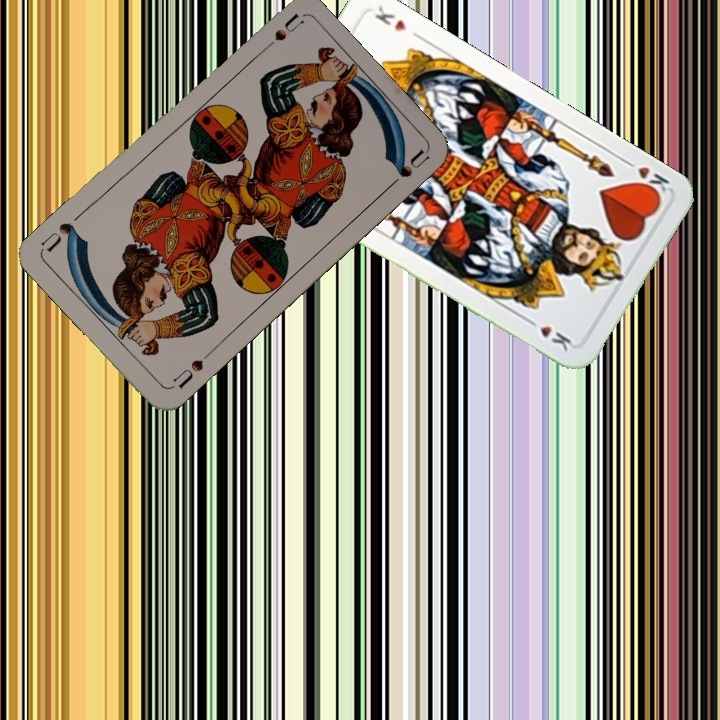HK: (619, 155, 673, 200)
SU: (254, 10, 305, 58), (166, 347, 215, 392)
